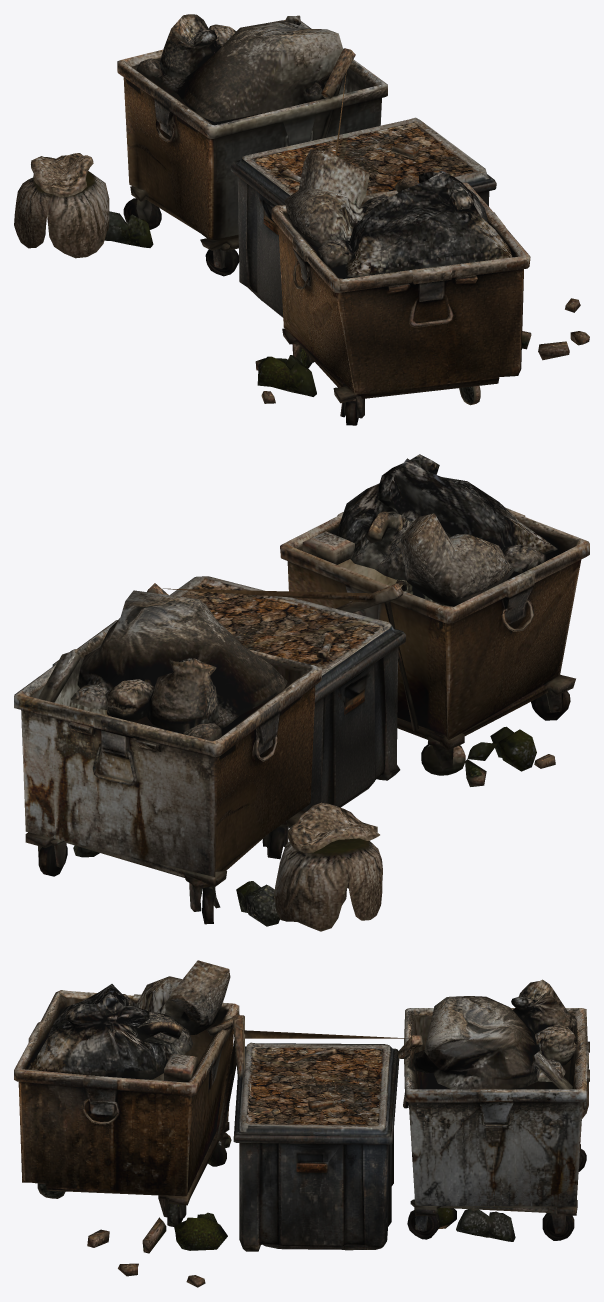
The model's file is SM_Prop_GarbageDumpster_01.fbx.
3 renders of one model, top to bottom at view 1: azimuth 30°, elevation 25°; view 2: azimuth 150°, elevation 25°; view 3: azimuth 270°, elevation 25°, orthographic. The views are drawn at different scales.
Visible parts, largest first — view 1: SM_Prop_GarbageDumpster_01; view 2: SM_Prop_GarbageDumpster_01; view 3: SM_Prop_GarbageDumpster_01.
Boxes of the visible parts, left/top/right/bottom form: SM_Prop_GarbageDumpster_01: left=14, top=14, right=589, bottom=425; SM_Prop_GarbageDumpster_01: left=14, top=454, right=589, bottom=931; SM_Prop_GarbageDumpster_01: left=14, top=960, right=589, bottom=1287.
Size of the model in its own units: 0.7324 by 0.4043 by 0.998.
Materials: 1 (1 with a texture image).
